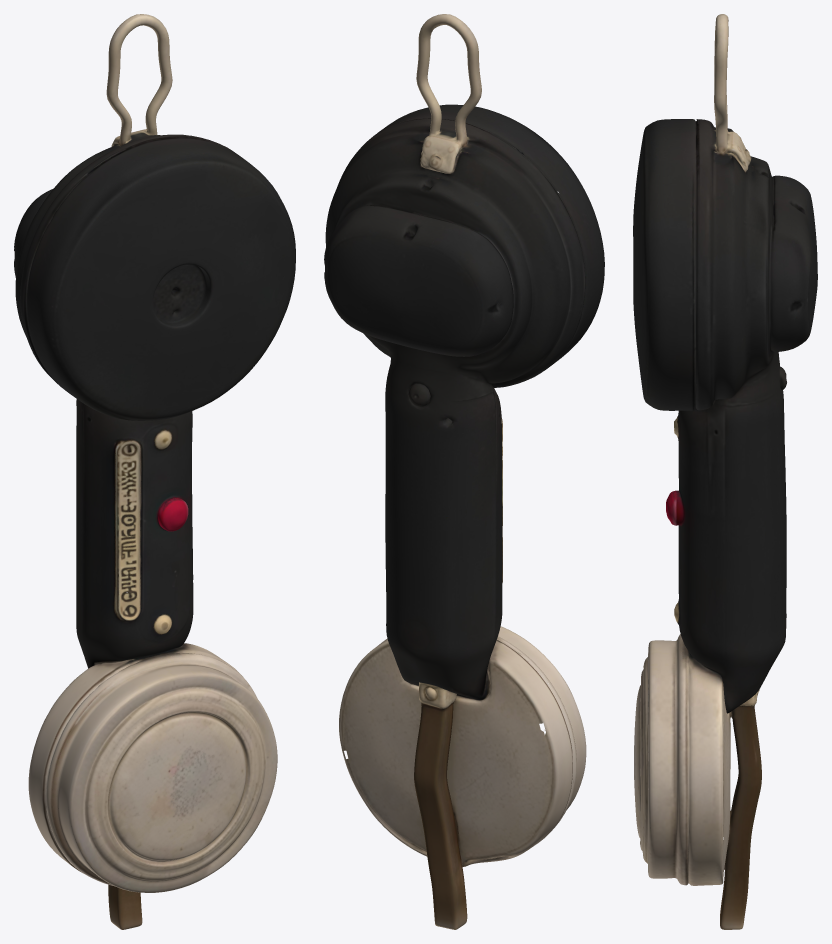
Rendered from radio.glb.
3 renders of one model, left to right at view 1: azimuth 30°, elevation 25°; view 2: azimuth 150°, elevation 25°; view 3: azimuth 270°, elevation 25°, orthographic.
Parts seen in each view (by area): view 1: tripo_node_7207790f; view 2: tripo_node_7207790f; view 3: tripo_node_7207790f.
Part boxes in pixels (x1,y1,x2,y2): tripo_node_7207790f: (14, 14, 295, 929); tripo_node_7207790f: (324, 14, 604, 929); tripo_node_7207790f: (633, 14, 817, 929).
Bounding box in the file's own units: 28.42 × 98.02 × 17.99.
1 material, 1 textured.
